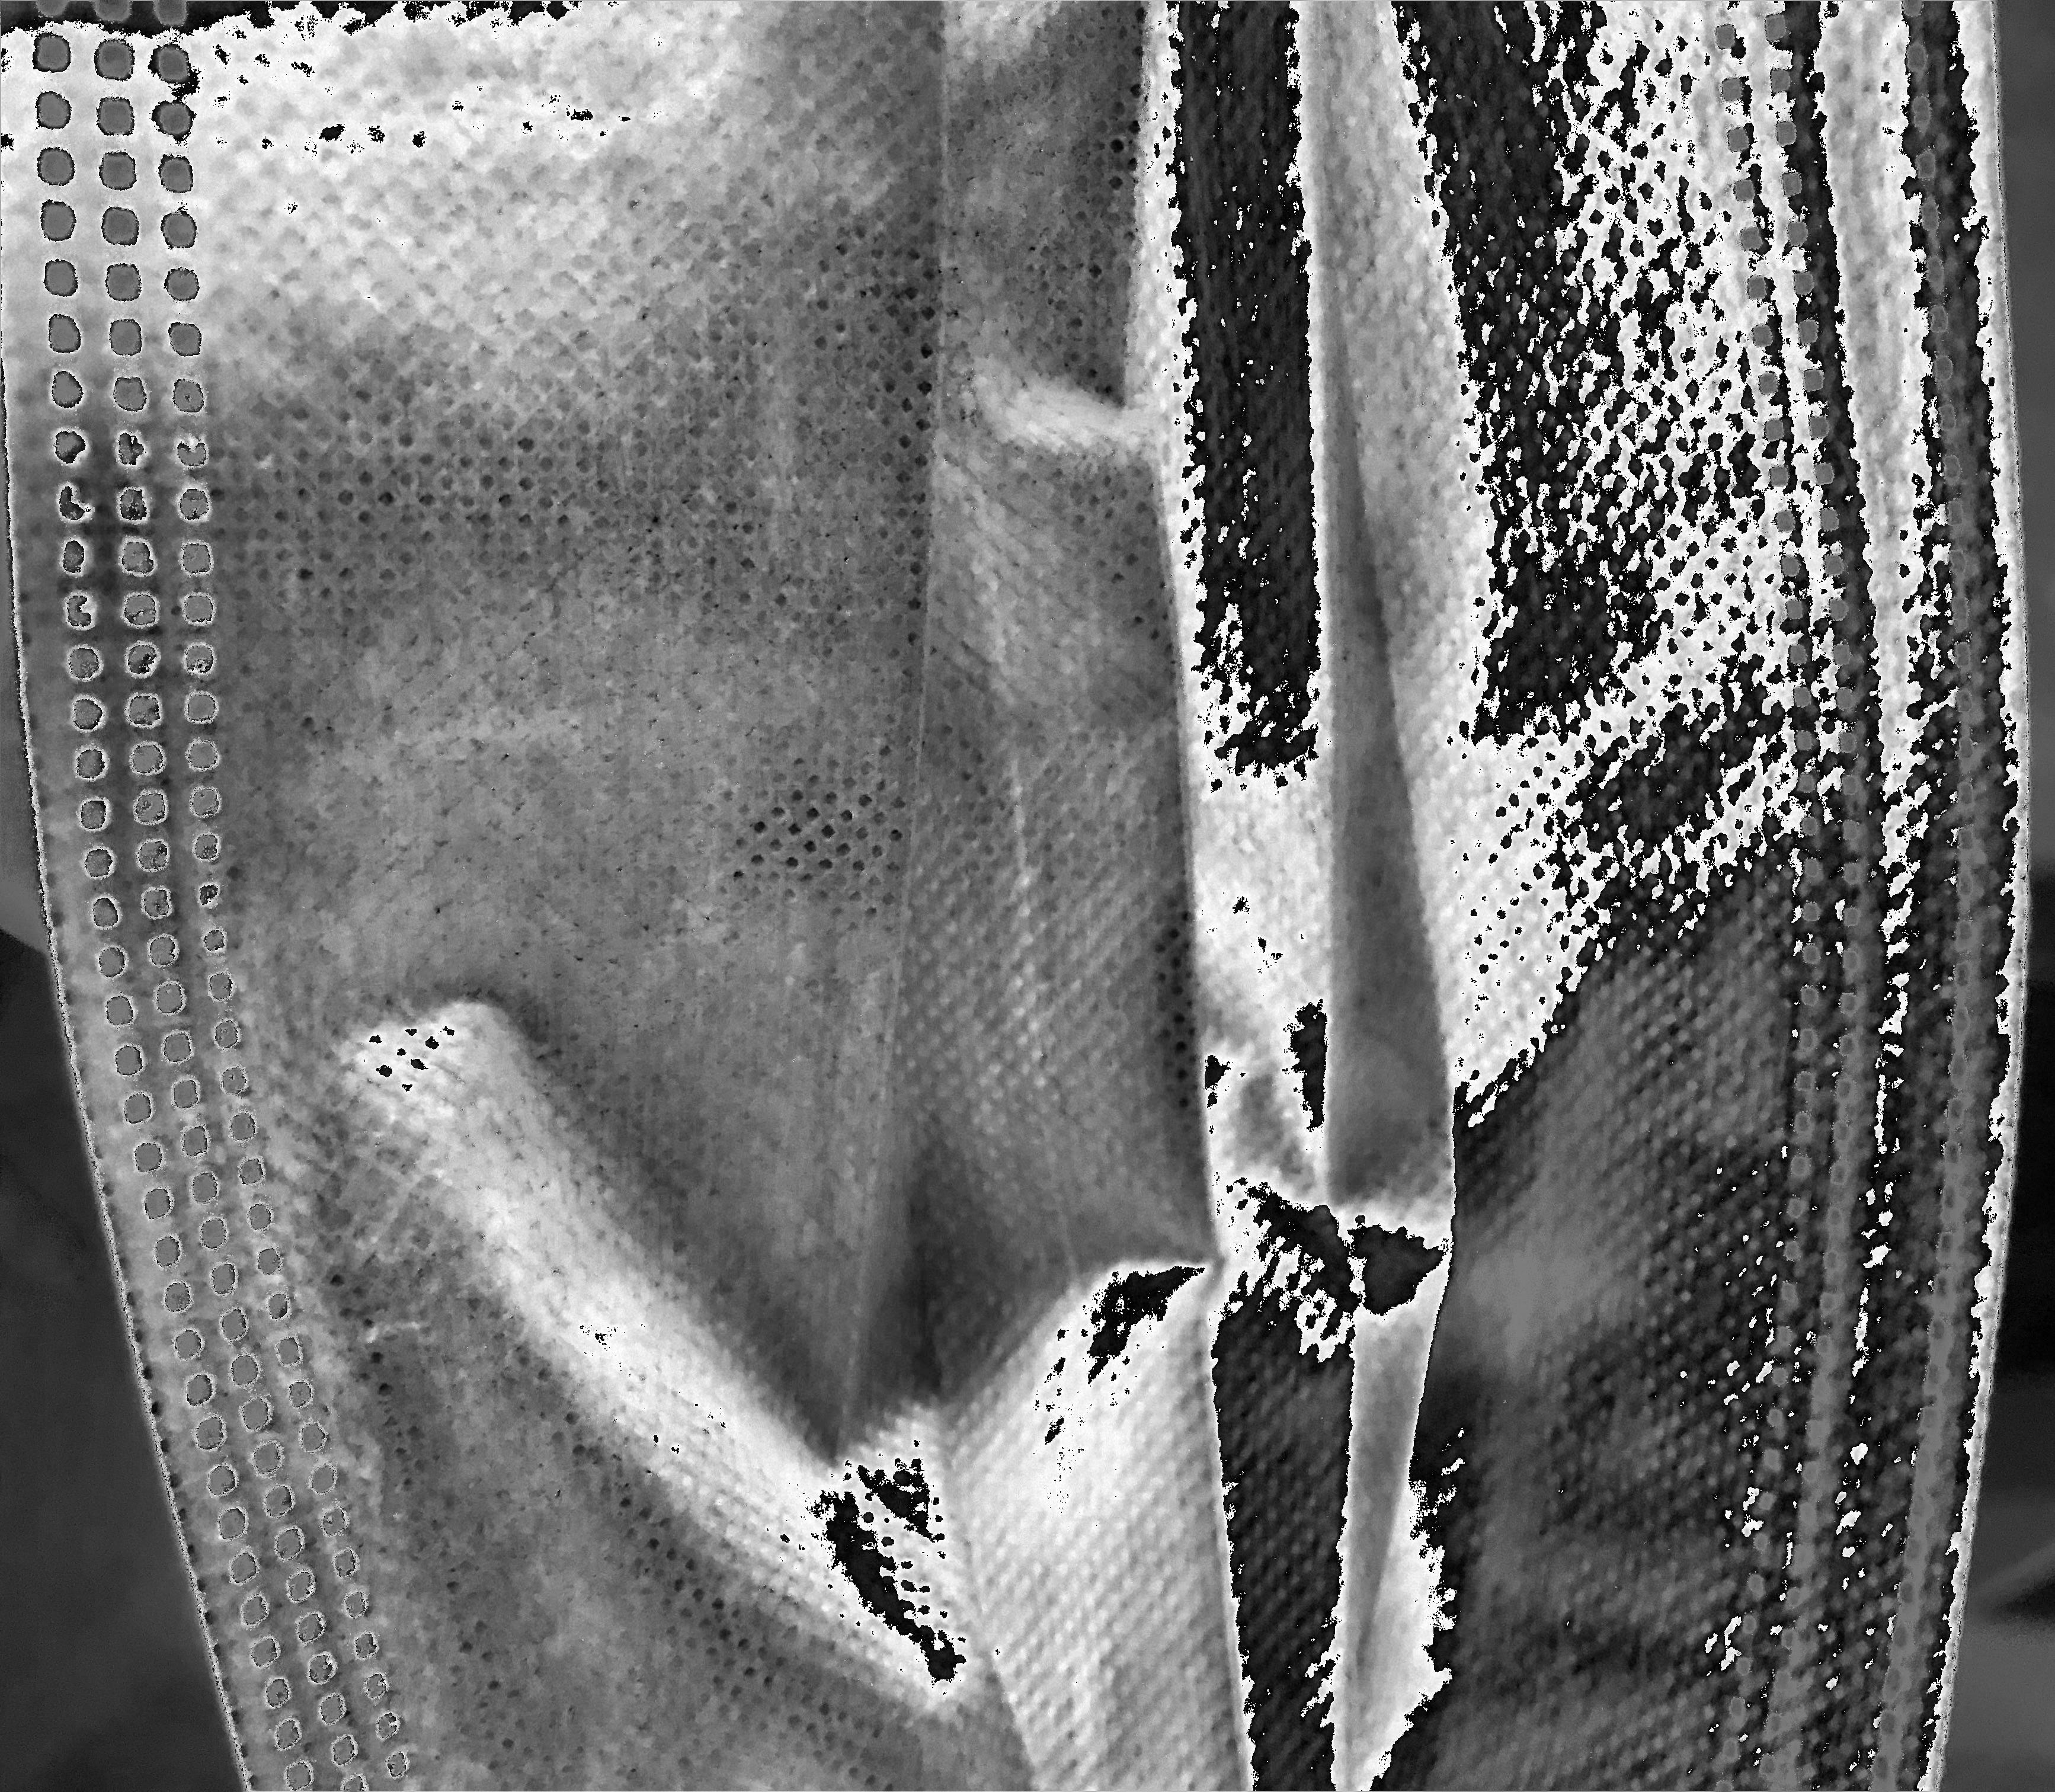High GSM: (491, 759, 1693, 1790), (225, 42, 1714, 629)
